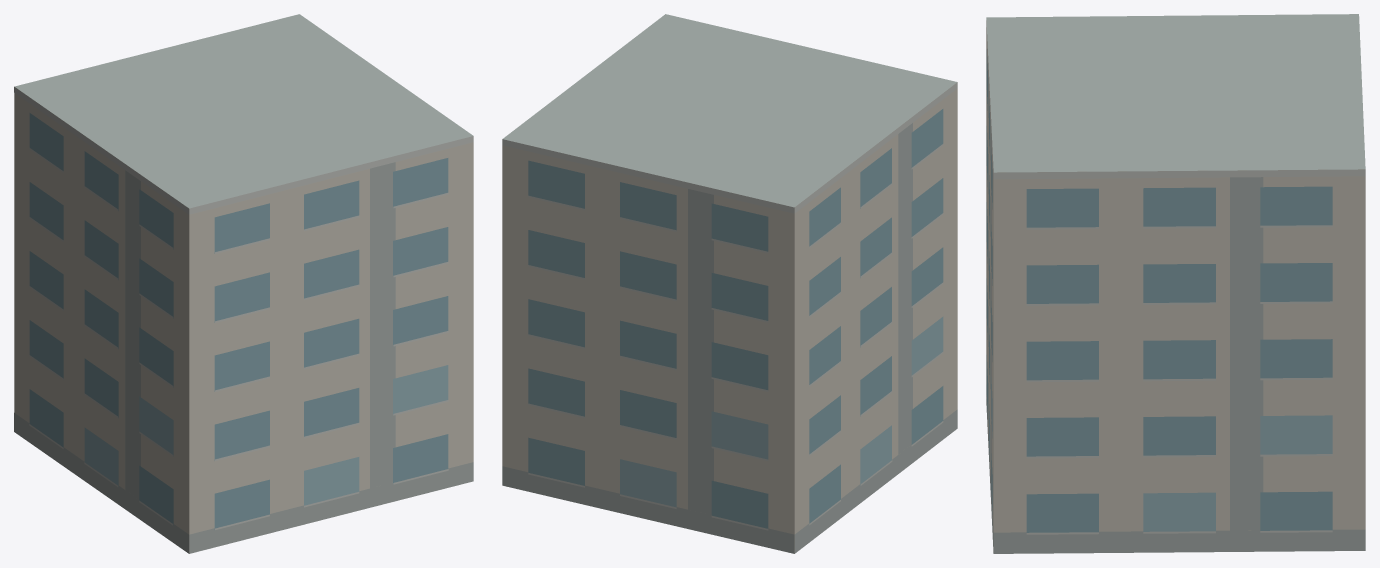
The model's file is survey-upis-32889557.glb.
3 views of the same model, side by side, from view 1: azimuth 30°, elevation 25°; view 2: azimuth 150°, elevation 25°; view 3: azimuth 270°, elevation 25° (orthographic). The views are drawn at different scales.
Parts seen in each view (by area): view 1: survey-upis-32889557.tmp; view 2: survey-upis-32889557.tmp; view 3: survey-upis-32889557.tmp.
Part boxes in pixels (left/top/right/bottom): survey-upis-32889557.tmp: left=14, top=14, right=473, bottom=553; survey-upis-32889557.tmp: left=502, top=14, right=957, bottom=553; survey-upis-32889557.tmp: left=986, top=14, right=1365, bottom=553.
Size of the model in its own units: 12.04 by 13.5 by 12.18.
